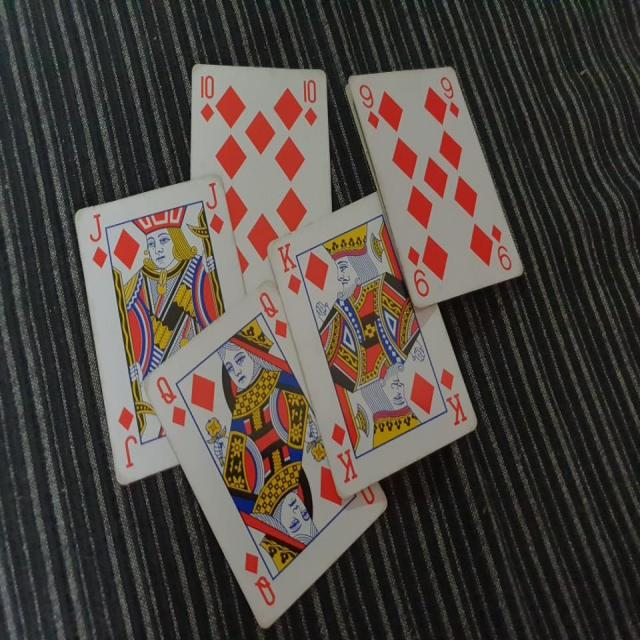10 Diamonds: (189, 61, 332, 284)
9 Diamonds: (347, 62, 527, 305)
J Diamonds: (71, 172, 246, 488)
K Diamonds: (267, 187, 479, 498)
Q Diamonds: (142, 277, 393, 632)
